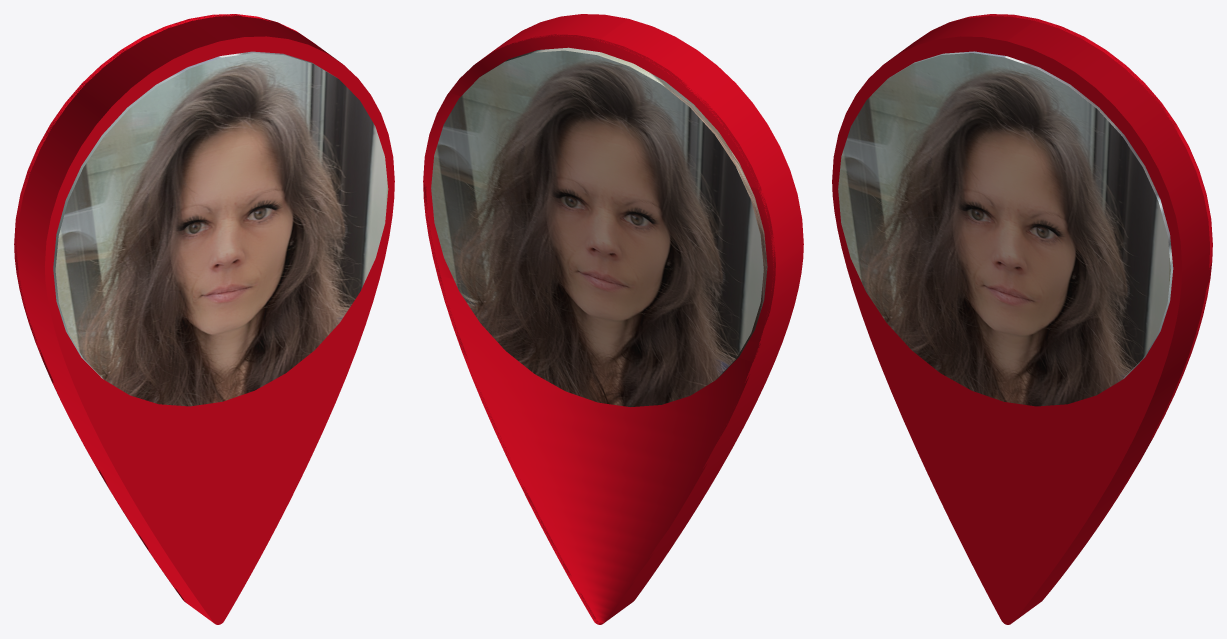
File: caly.glb
3 views of the same model, side by side, from view 1: azimuth 30°, elevation 25°; view 2: azimuth 150°, elevation 25°; view 3: azimuth 330°, elevation 25° (orthographic).
Visible parts, largest first — view 1: Cylindre, Curve; view 2: Cylindre, Curve; view 3: Cylindre, Curve.
Boxes of the visible parts, x1,y1,x2,y2 form: Cylindre: (53, 51, 388, 406); Curve: (14, 14, 394, 624); Cylindre: (431, 47, 767, 406); Curve: (423, 14, 803, 624); Cylindre: (838, 51, 1173, 406); Curve: (832, 14, 1212, 624).
Size of the model in its own units: 0.2766 by 0.4404 by 0.0478.
2 materials, 1 textured.
